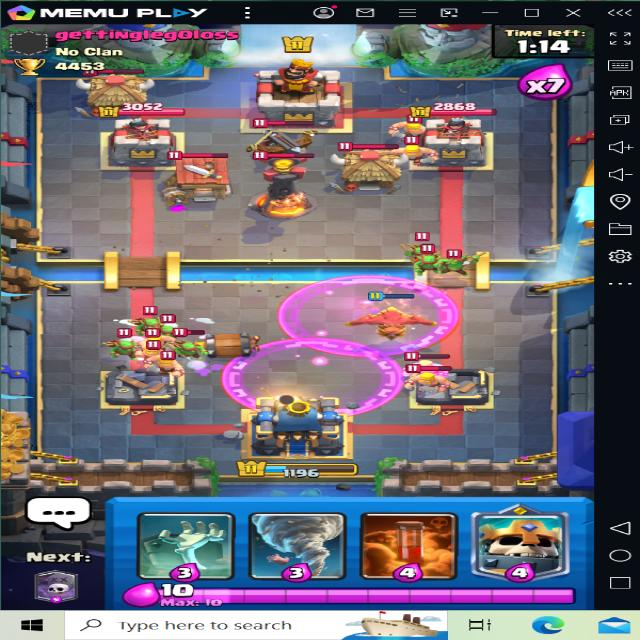Barbarian: (389, 114, 435, 141), (407, 367, 457, 391), (132, 341, 186, 363), (143, 348, 189, 372), (404, 353, 458, 372), (399, 141, 441, 165)
Barbarianhut: (162, 148, 235, 199)
Barbbarrel: (192, 328, 269, 358)
Goblinhut: (330, 140, 412, 196), (77, 64, 150, 113)
Infernotower: (253, 149, 319, 215)
Rage: (274, 266, 462, 354), (225, 325, 405, 414)
Speargoblin: (440, 252, 475, 281), (106, 327, 144, 353), (413, 247, 443, 277), (406, 232, 438, 260), (152, 316, 190, 339), (133, 309, 170, 332), (172, 336, 203, 359)
Xbow: (234, 112, 322, 168)
